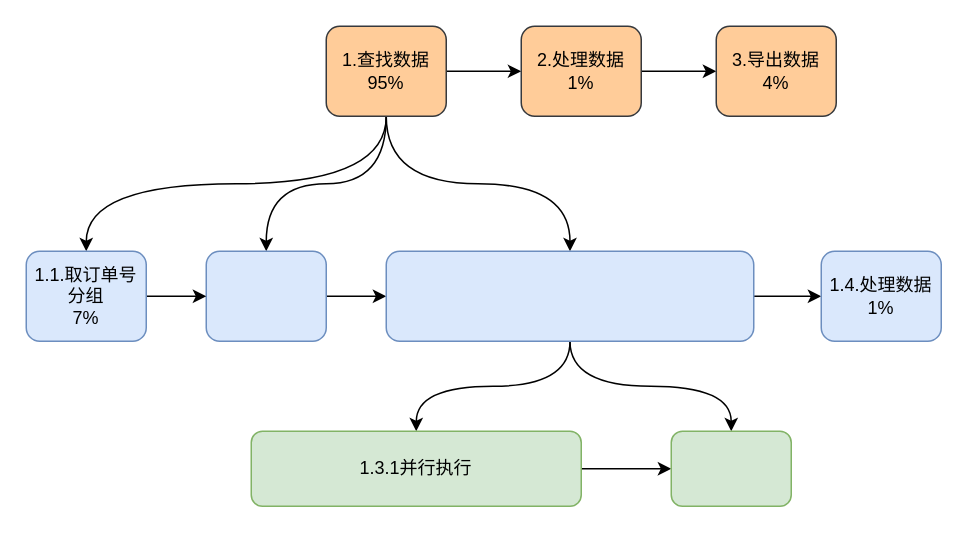
Some shapes in this 968 by 533 pixel diagram are drawn without their labels. Each missing label, with the centre of its shape:
"1.2.查还款计划 10%" belongs at point 265,295.
"1.3.2处理数据 20%" belongs at point 730,468.
"1.3.并行执行" belongs at point 569,295.
